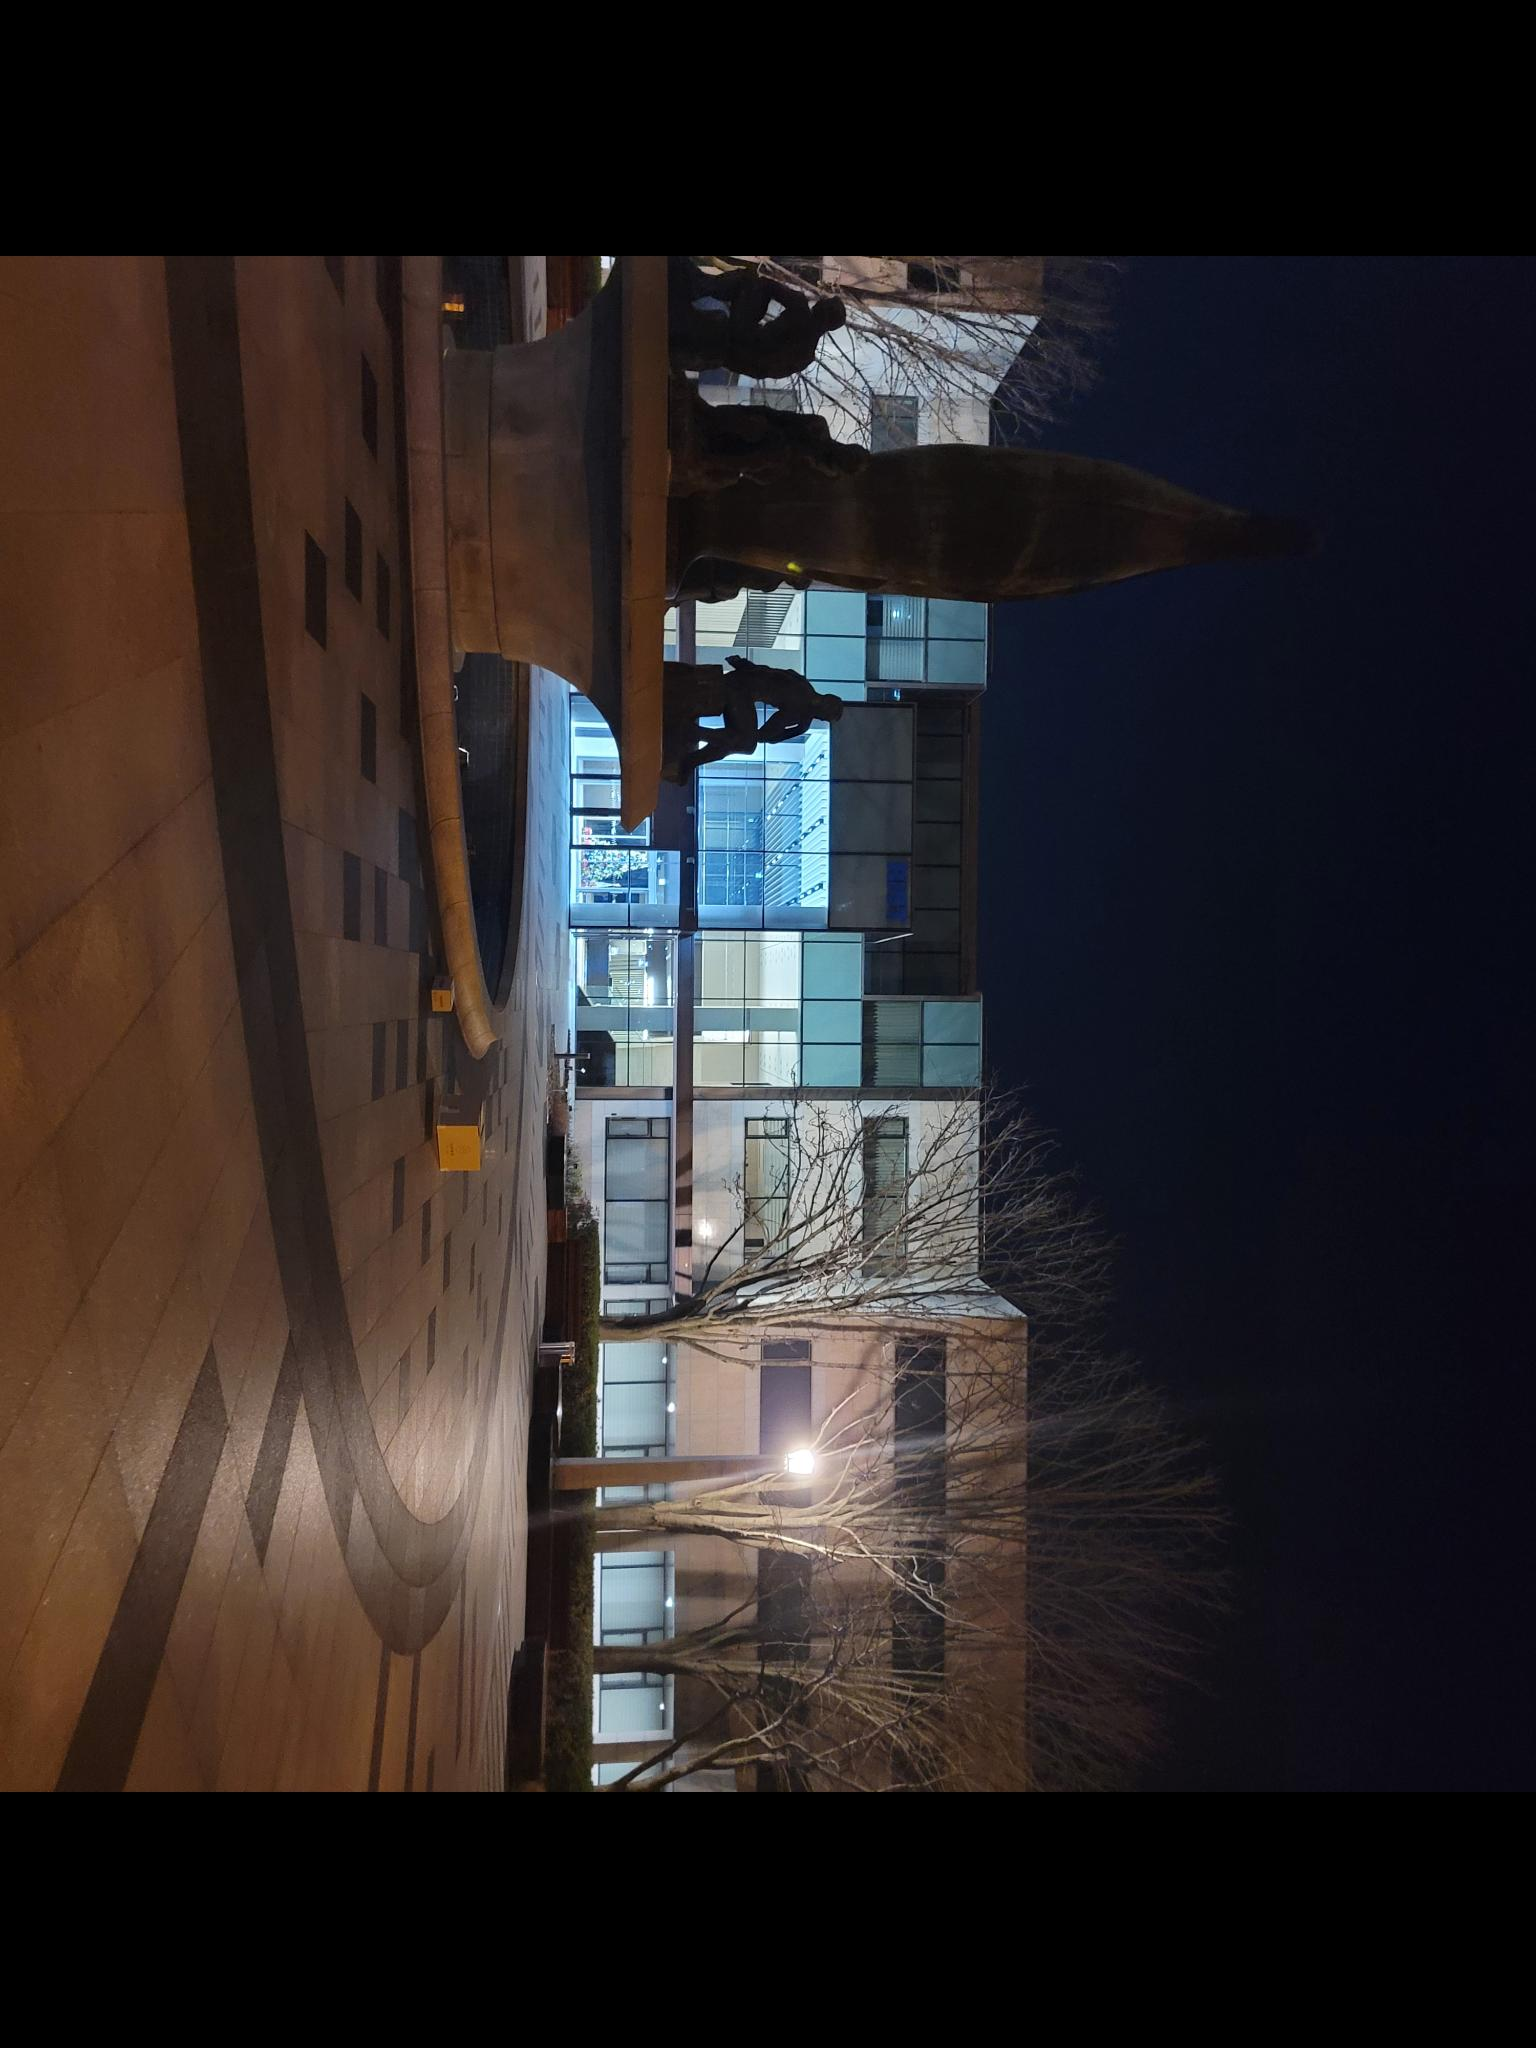Box: (432, 1097, 489, 1184), (428, 974, 460, 1024)
